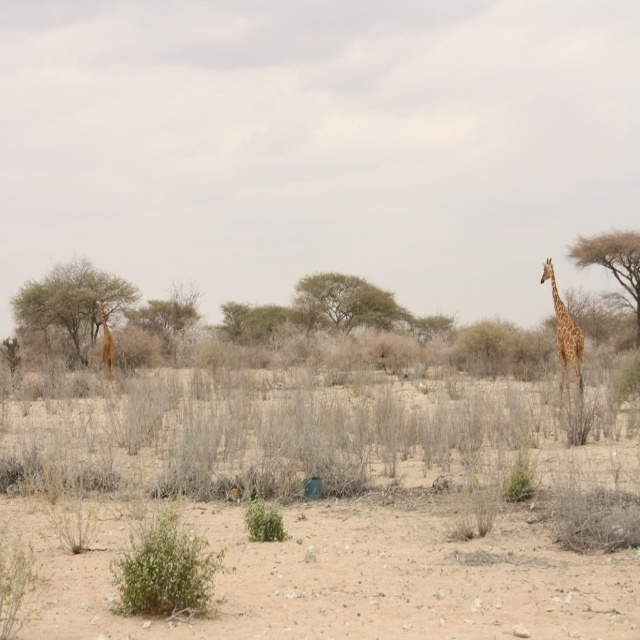Giraffe: (540, 257, 584, 415)
